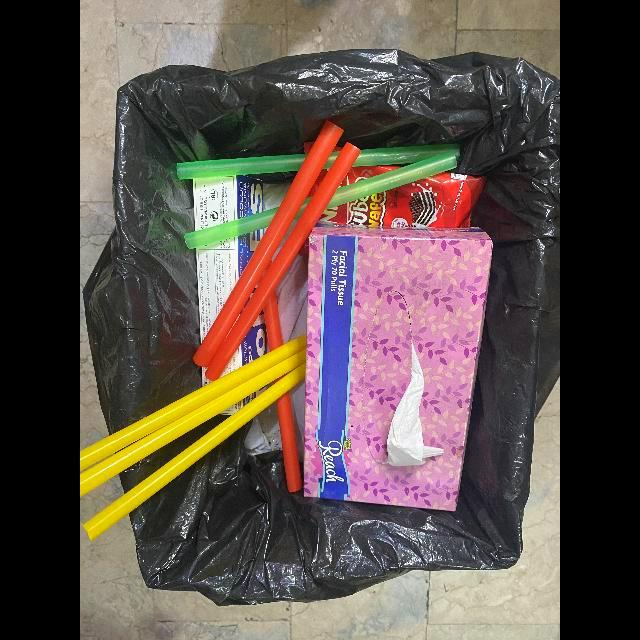cardboard: (302, 227, 493, 513), (196, 229, 266, 345), (193, 176, 264, 232), (220, 311, 266, 378)
food_wrapper: (319, 173, 487, 229), (339, 166, 402, 187)
paper: (387, 334, 444, 467)
